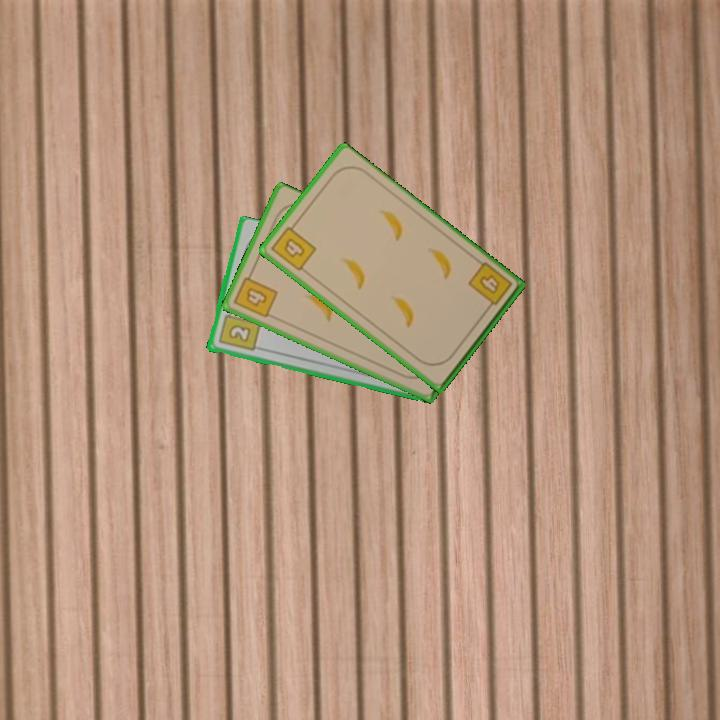2b: (215, 306, 262, 354)
4b: (267, 219, 319, 274), (464, 259, 515, 315), (230, 268, 281, 321)
